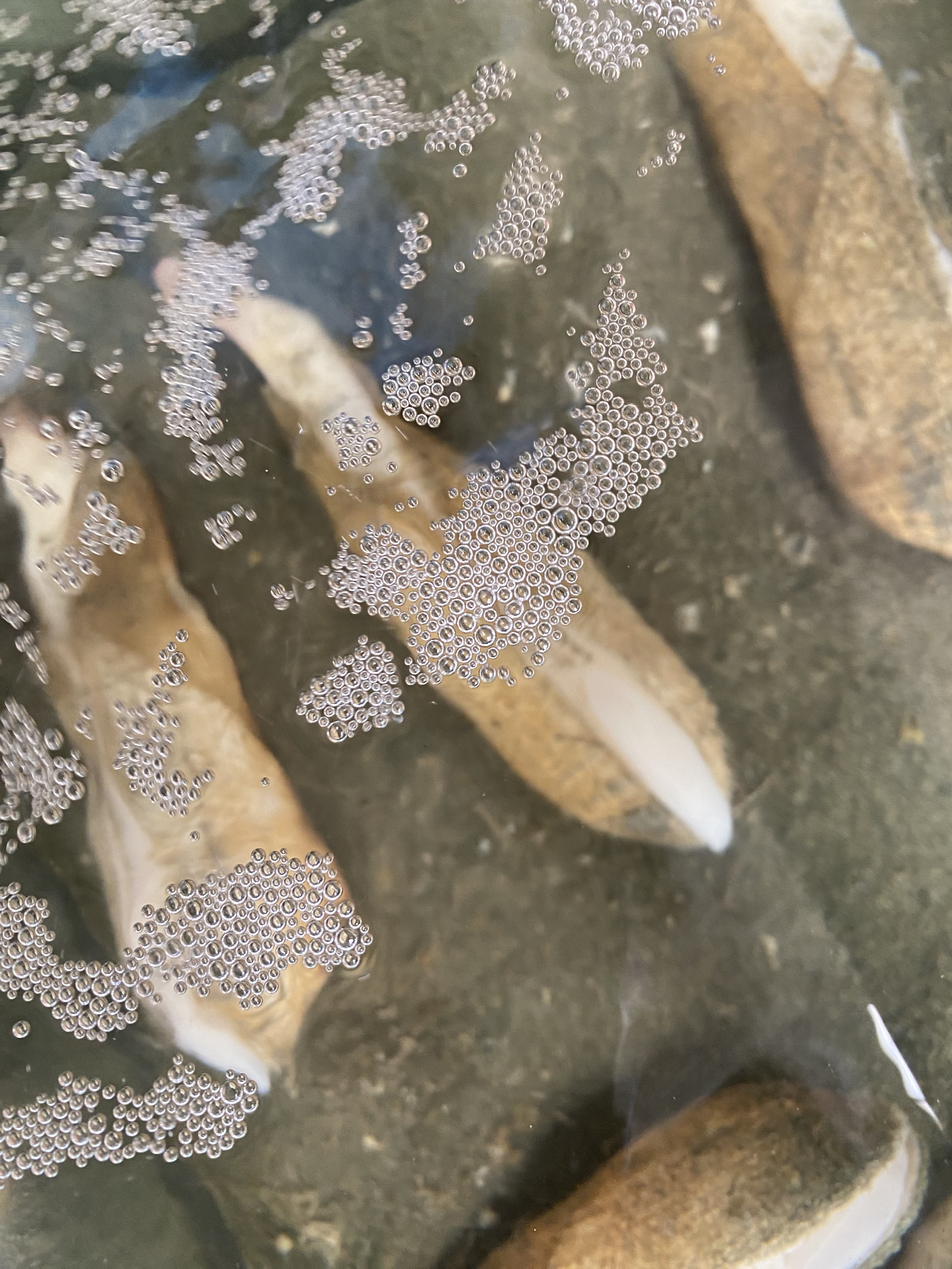Healthy: (0, 396, 327, 951), (671, 0, 952, 557), (435, 561, 733, 851), (221, 296, 465, 553), (121, 919, 324, 1091), (553, 568, 710, 740)
